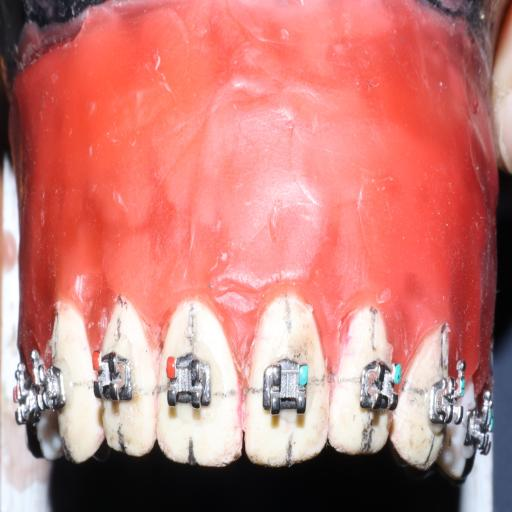incorrect_brace: (160, 347, 213, 421), (262, 352, 314, 424)
